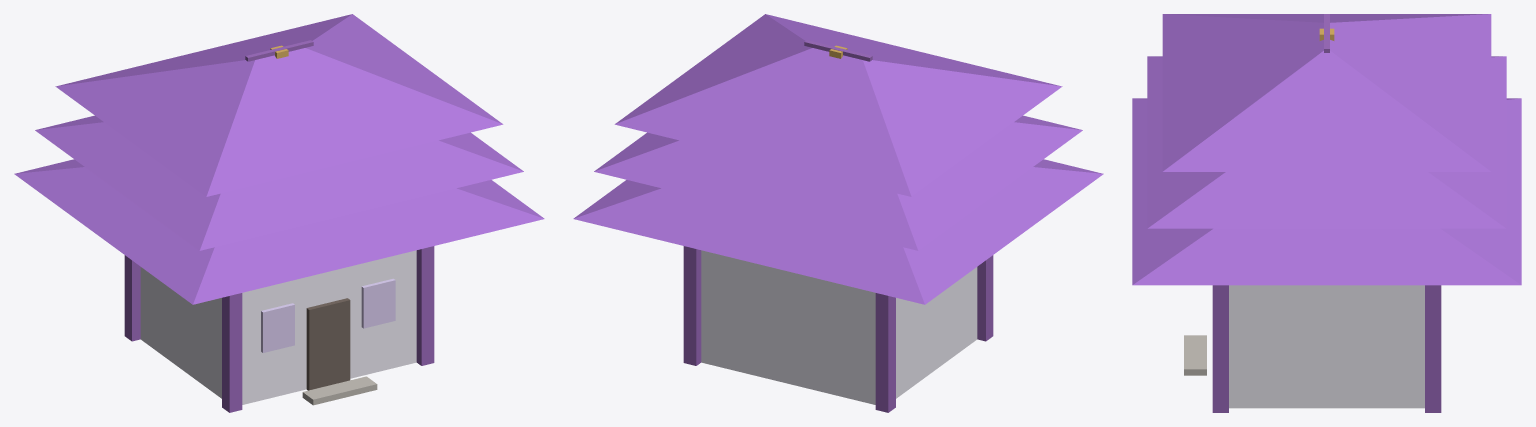
File: temple_c.glb
The picture shows the model from 3 angles, left to right: view 1: azimuth 30°, elevation 25°; view 2: azimuth 150°, elevation 25°; view 3: azimuth 270°, elevation 25°; orthographic projection. The views are drawn at different scales.
Size of the model in its own units: 7.7 by 6.28 by 6.78.
